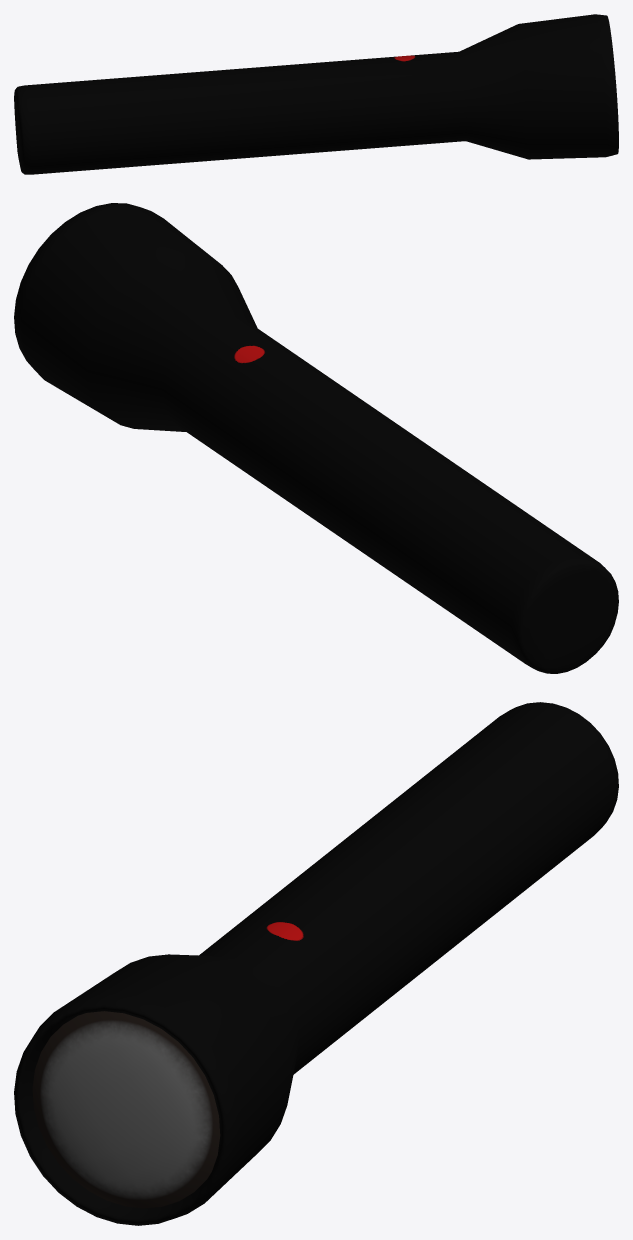
Rendered from FlashlightSketchfab.fbx.
3 renders of one model, top to bottom at view 1: azimuth 30°, elevation 25°; view 2: azimuth 150°, elevation 25°; view 3: azimuth 270°, elevation 25°, orthographic. The views are drawn at different scales.
Visible parts, largest first — view 1: Flashlight_v2.003; view 2: Flashlight_v2.003; view 3: Flashlight_v2.003.
Boxes of the visible parts, box(x1,y1,x2,y2) form: Flashlight_v2.003: box(14, 14, 618, 174); Flashlight_v2.003: box(14, 203, 618, 673); Flashlight_v2.003: box(14, 702, 618, 1225).
Bounding box in the file's own units: 18.71 × 30.78 × 7.53.
1 material, 1 textured.
